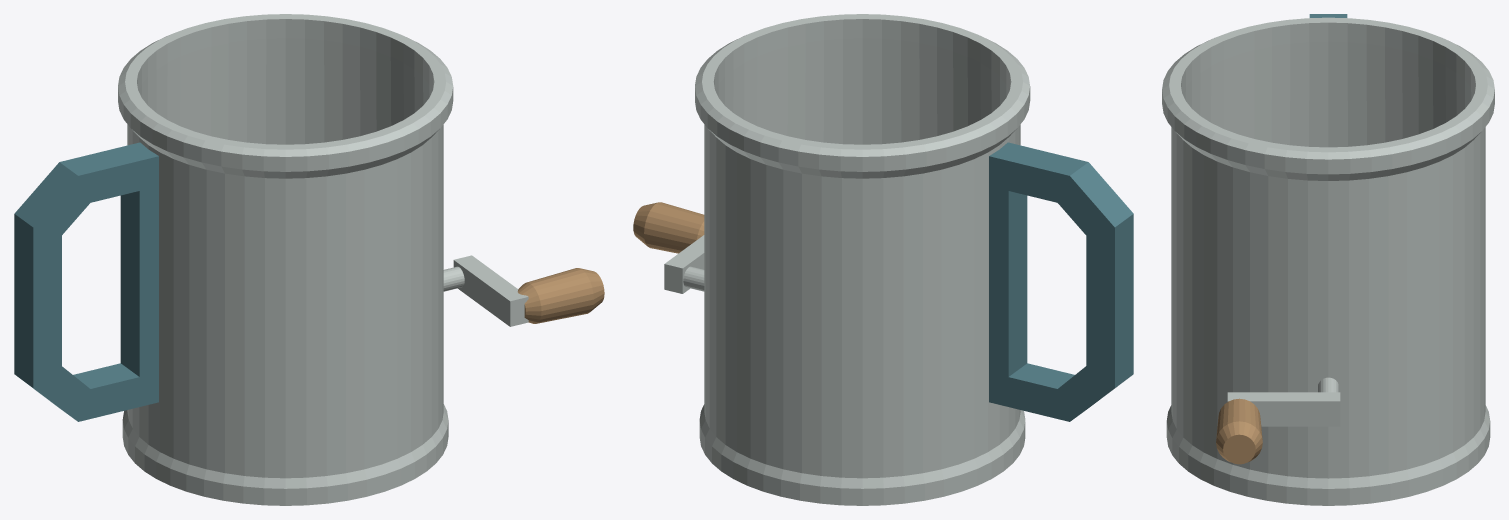
The picture shows the model from 3 angles, left to right: view 1: azimuth 30°, elevation 25°; view 2: azimuth 150°, elevation 25°; view 3: azimuth 270°, elevation 25°; orthographic projection.
Parts seen in each view (by area): view 1: WholeOpenTallCylinderRolledRimAndFoot, WholeOpenSideHandGrip, WholeCrankEndPalmGrip, WholeOutsideOffsetCrankArm; view 2: WholeOpenTallCylinderRolledRimAndFoot, WholeOpenSideHandGrip, WholeCrankEndPalmGrip, WholeOutsideOffsetCrankArm; view 3: WholeOpenTallCylinderRolledRimAndFoot, WholeOutsideOffsetCrankArm, WholeCrankEndPalmGrip.
Boxes of the visible parts, left/top/right/bottom form: WholeOpenTallCylinderRolledRimAndFoot: left=118, top=14, right=453, bottom=505; WholeOpenSideHandGrip: left=14, top=142, right=158, bottom=421; WholeCrankEndPalmGrip: left=517, top=268, right=604, bottom=323; WholeOutsideOffsetCrankArm: left=453, top=255, right=528, bottom=326; WholeOpenTallCylinderRolledRimAndFoot: left=695, top=14, right=1030, bottom=505; WholeOpenSideHandGrip: left=989, top=142, right=1133, bottom=421; WholeCrankEndPalmGrip: left=633, top=202, right=704, bottom=253; WholeOutsideOffsetCrankArm: left=664, top=235, right=704, bottom=293; WholeOpenTallCylinderRolledRimAndFoot: left=1162, top=17, right=1494, bottom=505; WholeOutsideOffsetCrankArm: left=1227, top=392, right=1340, bottom=426; WholeCrankEndPalmGrip: left=1216, top=398, right=1262, bottom=464.
Size of the model in its own units: 0.258 by 0.166 by 0.142.
